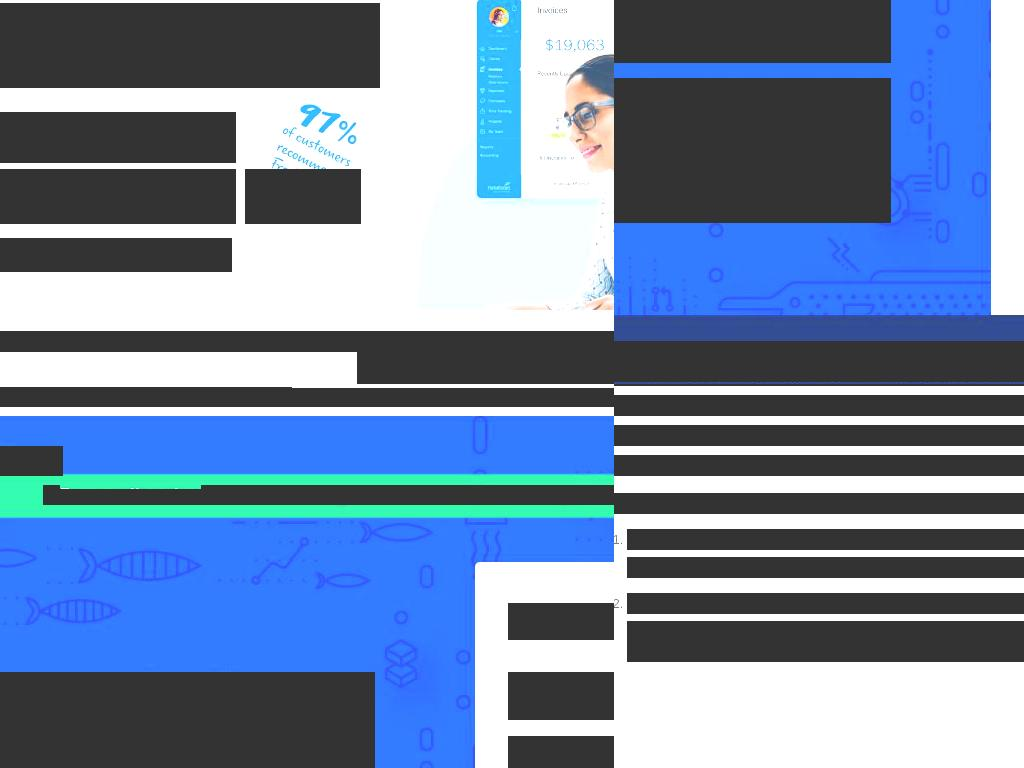button: (0, 169, 236, 224), (0, 388, 614, 407), (0, 446, 63, 476)
field: (0, 112, 236, 163), (508, 672, 614, 720), (508, 736, 614, 768)
heading: (0, 672, 375, 768), (614, 0, 891, 63), (614, 493, 1024, 514), (627, 529, 1024, 550), (627, 593, 1024, 614), (508, 603, 614, 640)
iframe: (357, 343, 614, 384)
image: (245, 169, 361, 224), (0, 446, 63, 476)
link: (0, 238, 232, 272), (0, 387, 292, 403), (11, 256, 132, 272), (59, 238, 158, 254)
text: (614, 78, 891, 223), (0, 3, 380, 88), (614, 341, 1024, 382), (627, 621, 1024, 662), (614, 395, 1024, 416), (614, 425, 1024, 446), (614, 455, 1024, 476), (627, 557, 1024, 578), (201, 485, 614, 505), (614, 363, 1024, 382), (269, 331, 614, 352), (0, 331, 269, 352), (0, 182, 109, 210), (59, 489, 202, 505), (0, 238, 59, 254), (158, 238, 189, 254), (43, 485, 60, 505), (3, 256, 12, 272)
